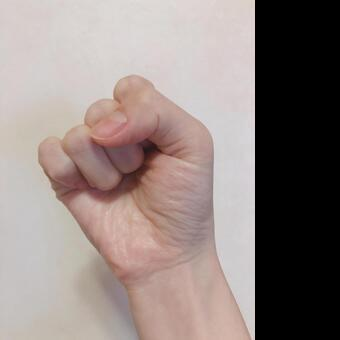gu-: (36, 74, 215, 261)
